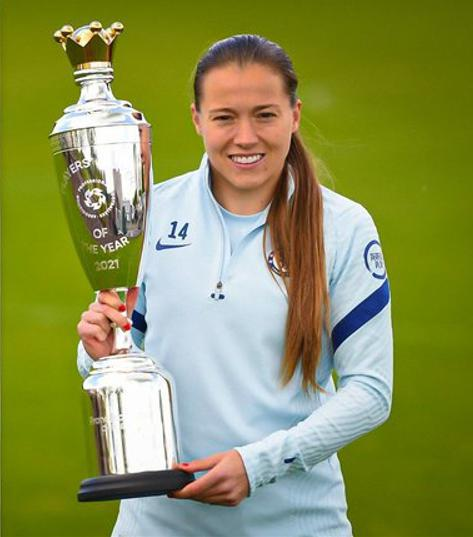Sober: (200, 68, 294, 183)
